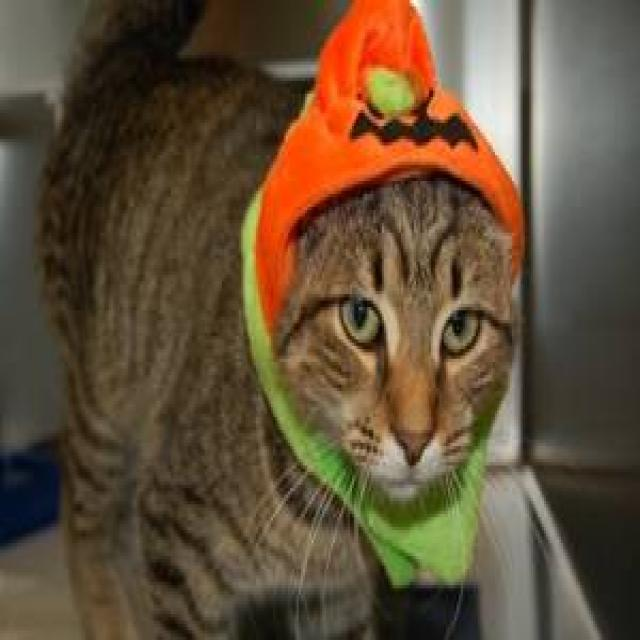cat: (32, 0, 523, 637)
